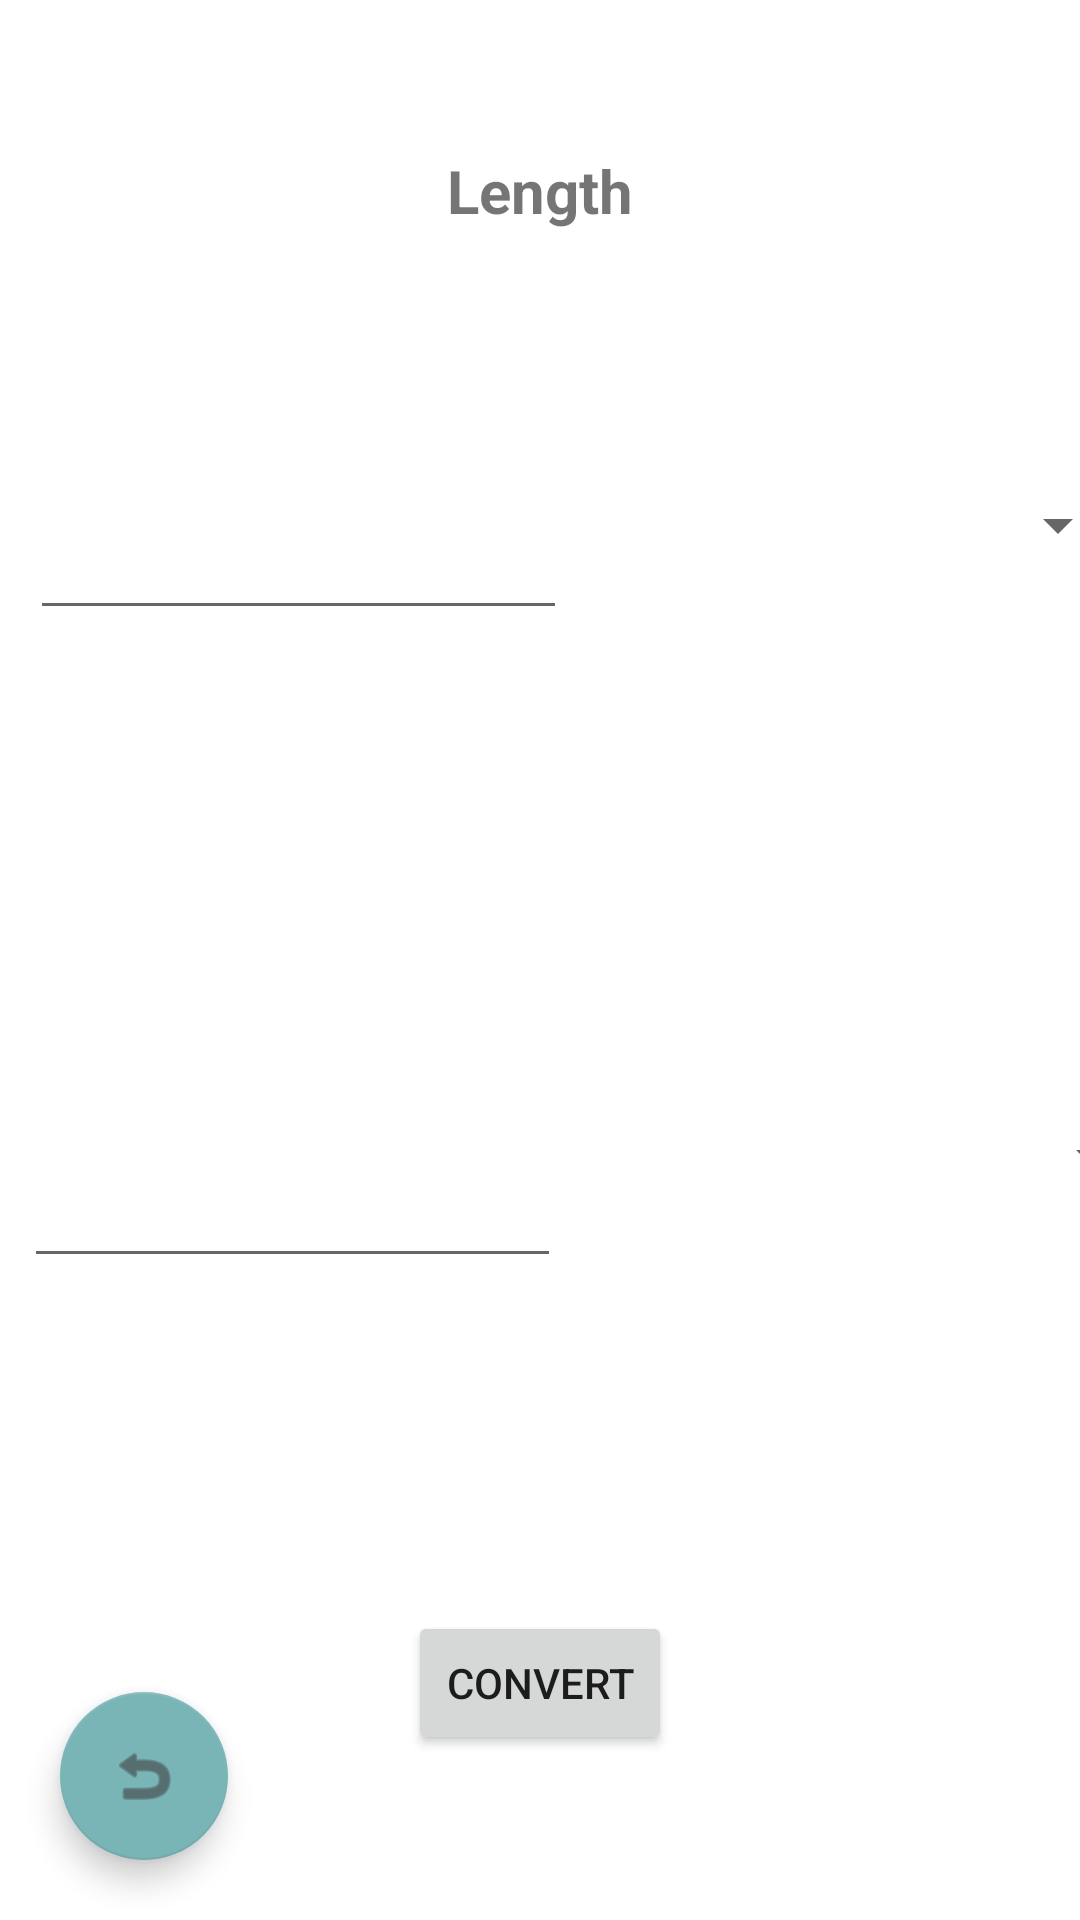

Icons on this 1080×1920 Android screen, each with its box as (x1, y1, x2, y2):
revert: (60, 1692, 228, 1860)
